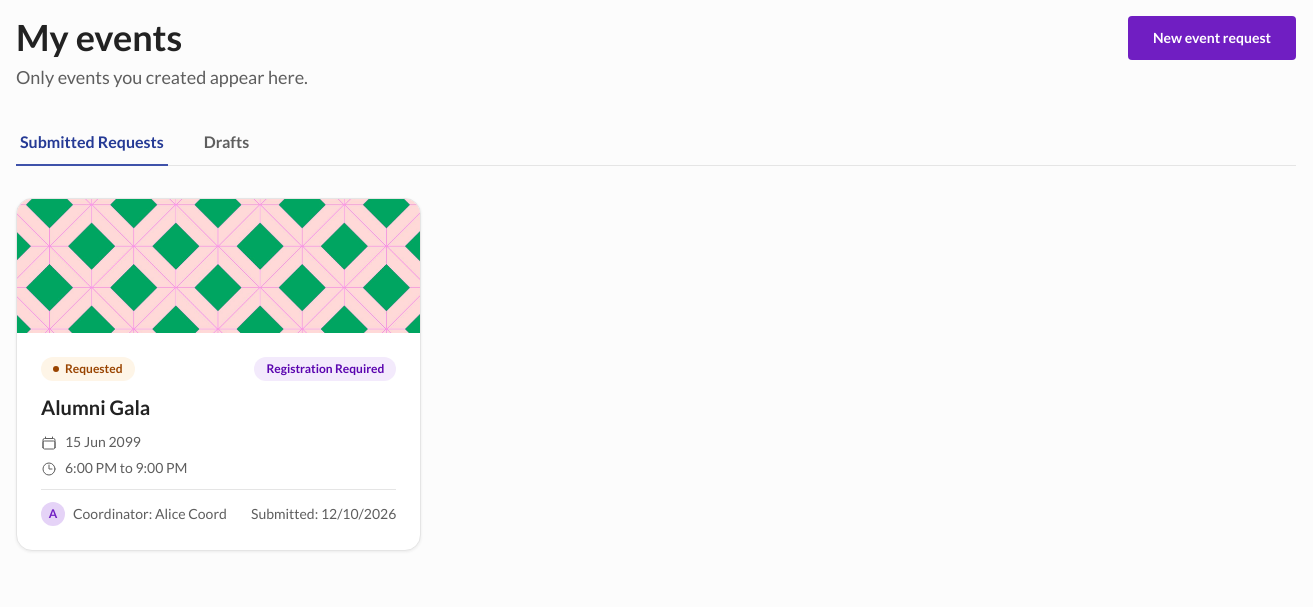
Test: EventsListView › drafts › lists drafts under the Drafts tab, linking to the draft editor, with a Delete action
The width and height of the screenshot is (1313, 607).
Expected: the number of links with class "event-card" is 1, [16,198,421,551]
Click the tab "Drafts": click(226, 143) [200,120,253,166]
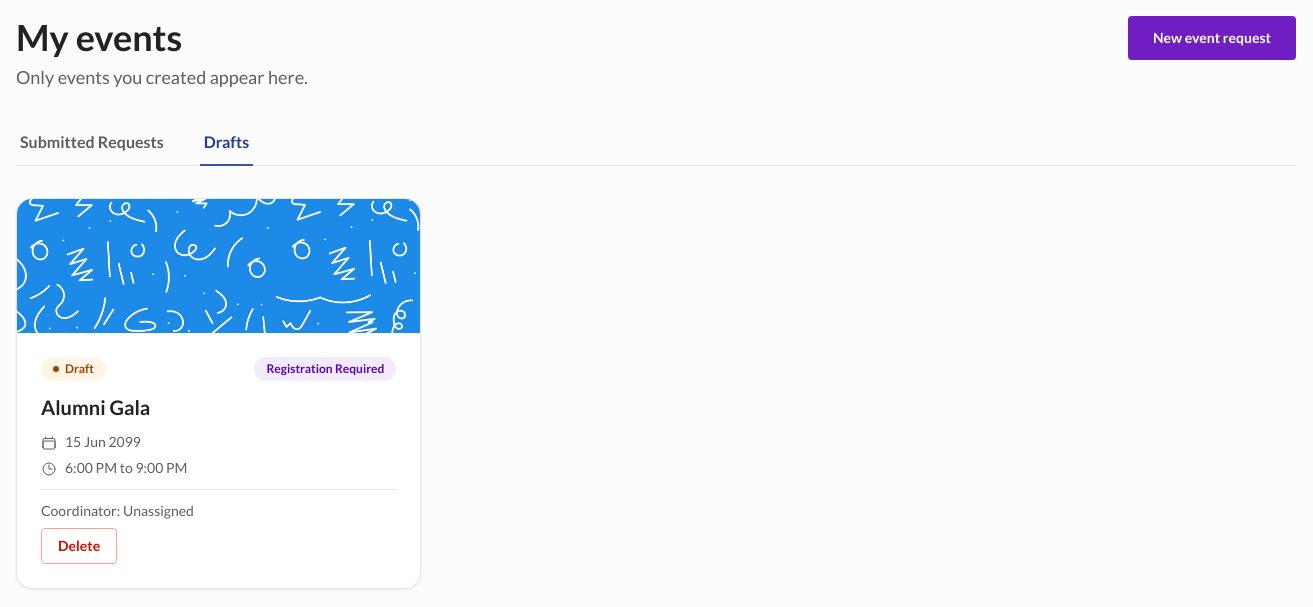
Expected: the number of links with class "event-card" is 1, [16,198,421,589]
Now the button with class "delete-draft-action" reads "Delete", box [41,528,117,564]
